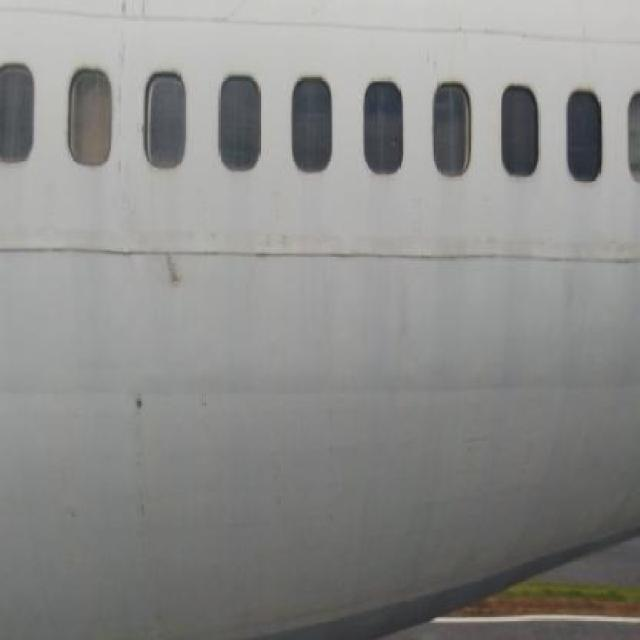Rust: (145, 226, 210, 302)
Scartch: (99, 2, 158, 189)
